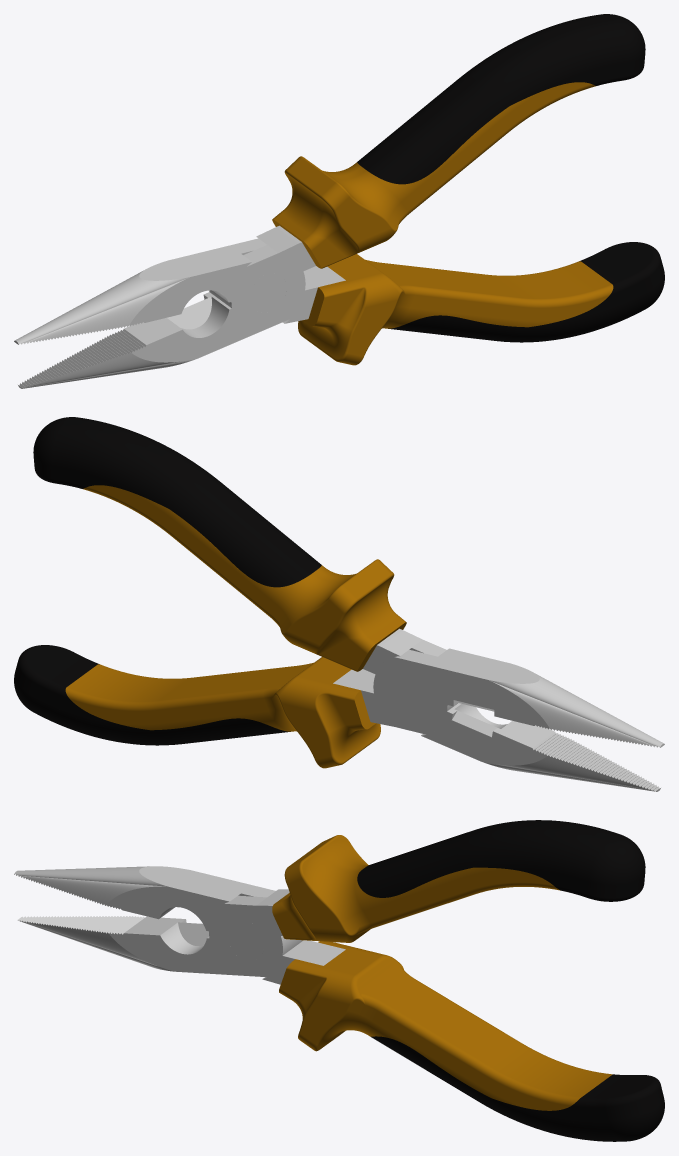
The model's file is Long Nose Pliers open 10 degrees.obj.
The picture shows the model from 3 angles, top to bottom: view 1: azimuth 30°, elevation 25°; view 2: azimuth 150°, elevation 25°; view 3: azimuth 330°, elevation 25°; orthographic projection.
Visible parts, largest first — view 1: Long_Nose_Pliers_open_10_degrees; view 2: Long_Nose_Pliers_open_10_degrees; view 3: Long_Nose_Pliers_open_10_degrees.
Boxes of the visible parts, x1=… form: Long_Nose_Pliers_open_10_degrees: x1=14, y1=14, x2=664, y2=388; Long_Nose_Pliers_open_10_degrees: x1=14, y1=417, x2=664, y2=791; Long_Nose_Pliers_open_10_degrees: x1=14, y1=820, x2=664, y2=1141.
Size of the model in its own units: 156 by 70.59 by 20.
